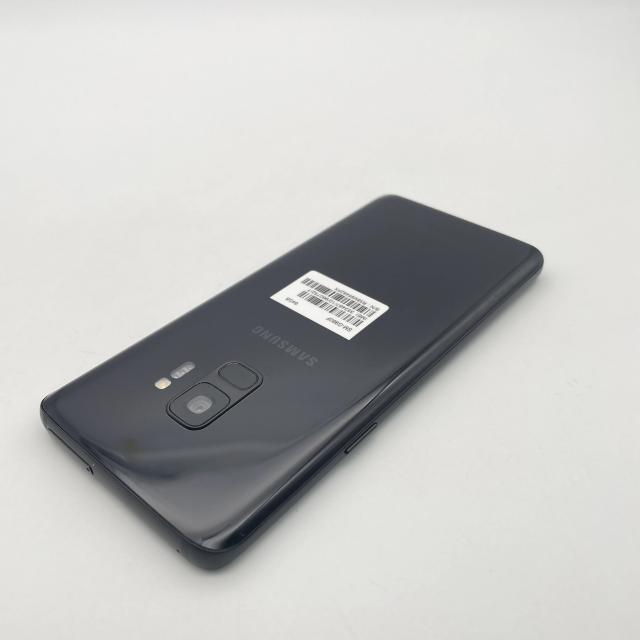mobile phone: (38, 192, 545, 572)
